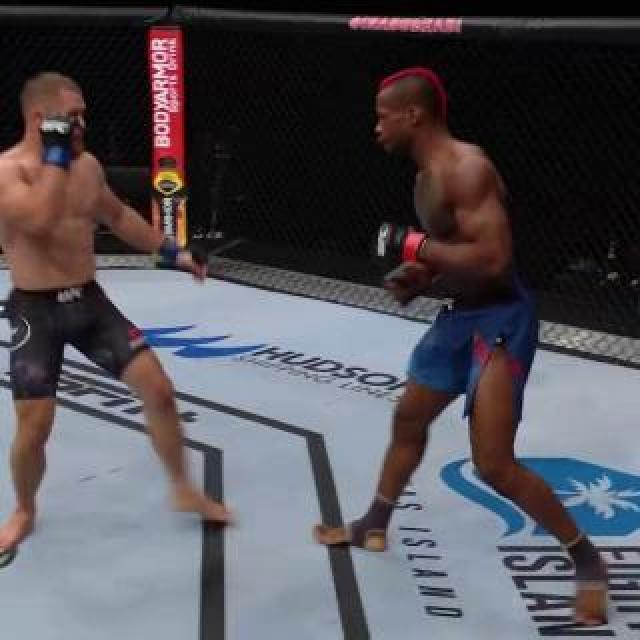fight: (0, 34, 630, 640)
